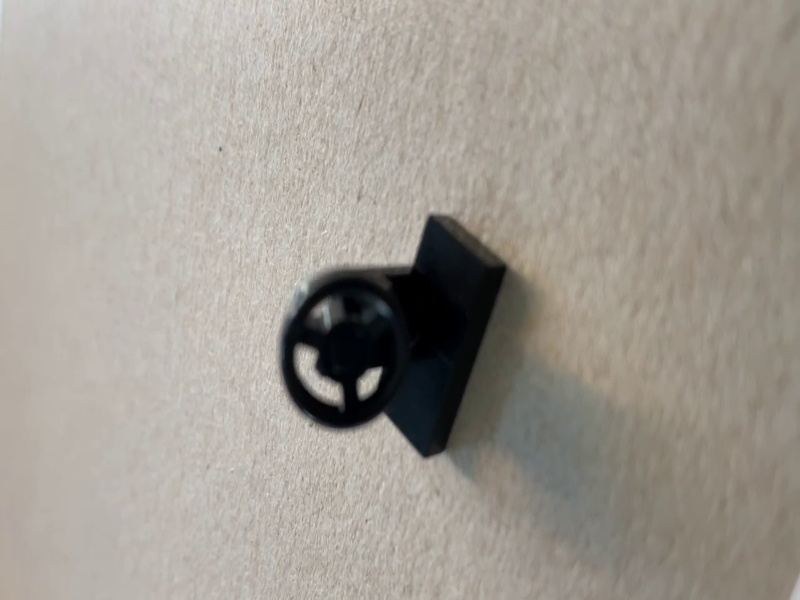steering wheel: (276, 213, 507, 463)
